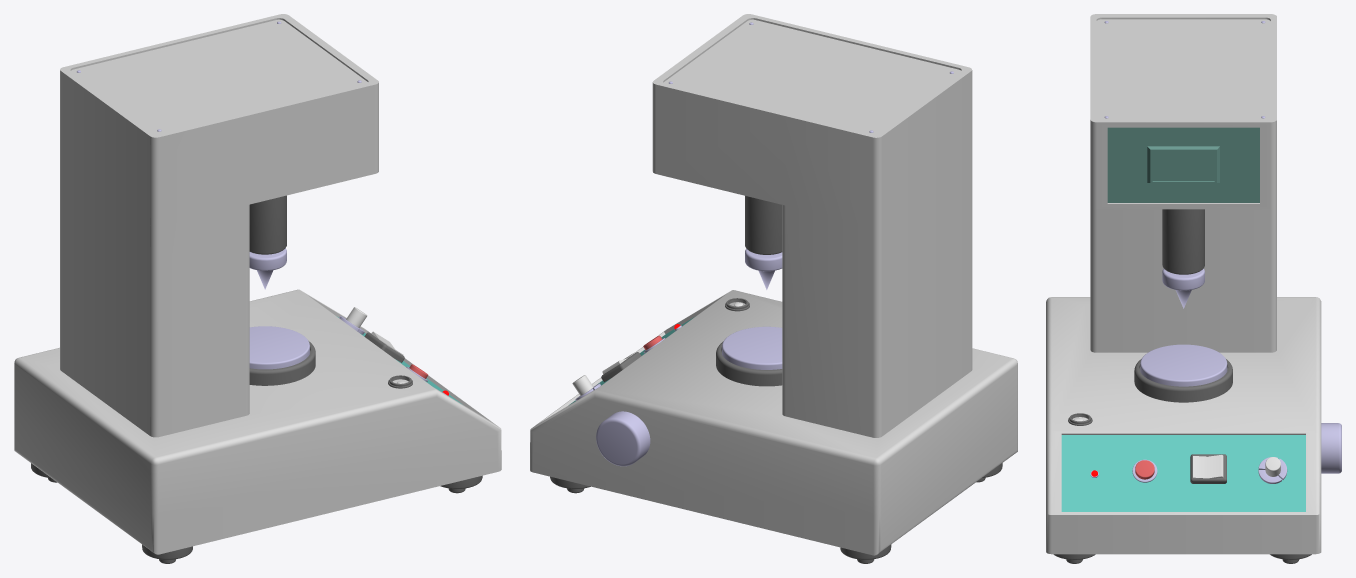
Rendered from 联合测定仪.fbx.
The picture shows the model from 3 angles, left to right: view 1: azimuth 30°, elevation 25°; view 2: azimuth 150°, elevation 25°; view 3: azimuth 270°, elevation 25°; orthographic projection. The views are drawn at different scales.
Parts seen in each view (by area): view 1: 机身, 升降台, 椎体, 底座; view 2: 机身, 升降台, 椎体, 调节, 底座; view 3: 机身, 升降台, 椎体, 调节, 立方体_3, 底座, 立方体_2, 管道_1_2.
Boxes of the visible parts, box(x1,y1,x2,y2) form: 机身: box(14, 14, 501, 554); 升降台: box(249, 326, 315, 385); 椎体: box(249, 195, 286, 289); 底座: box(31, 463, 482, 563); 机身: box(530, 14, 1017, 555); 升降台: box(716, 326, 782, 386); 椎体: box(745, 196, 782, 289); 调节: box(596, 411, 650, 466); 底座: box(550, 463, 1002, 563); 机身: box(1046, 14, 1321, 554); 升降台: box(1134, 344, 1232, 402); 椎体: box(1162, 209, 1204, 308); 调节: box(1321, 423, 1341, 473); 立方体_3: box(1193, 455, 1223, 478); 底座: box(1053, 554, 1311, 563); 立方体_2: box(1190, 454, 1226, 483); 管道_1_2: box(1258, 457, 1287, 483).
Bounding box in the file's own units: 286 × 326 × 215.
